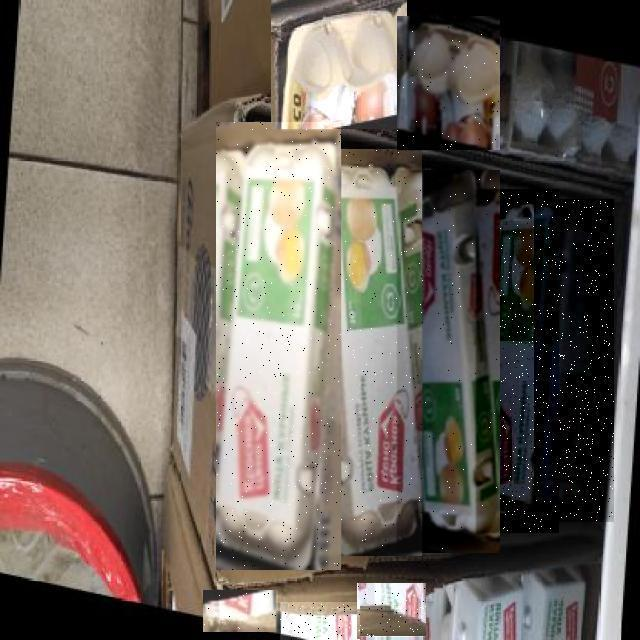Eggs: (216, 122, 341, 570), (315, 149, 423, 556), (397, 170, 500, 553), (476, 189, 559, 533), (534, 200, 614, 524), (271, 0, 407, 129), (397, 16, 500, 150), (357, 584, 426, 640), (204, 591, 280, 633), (280, 602, 360, 640)
